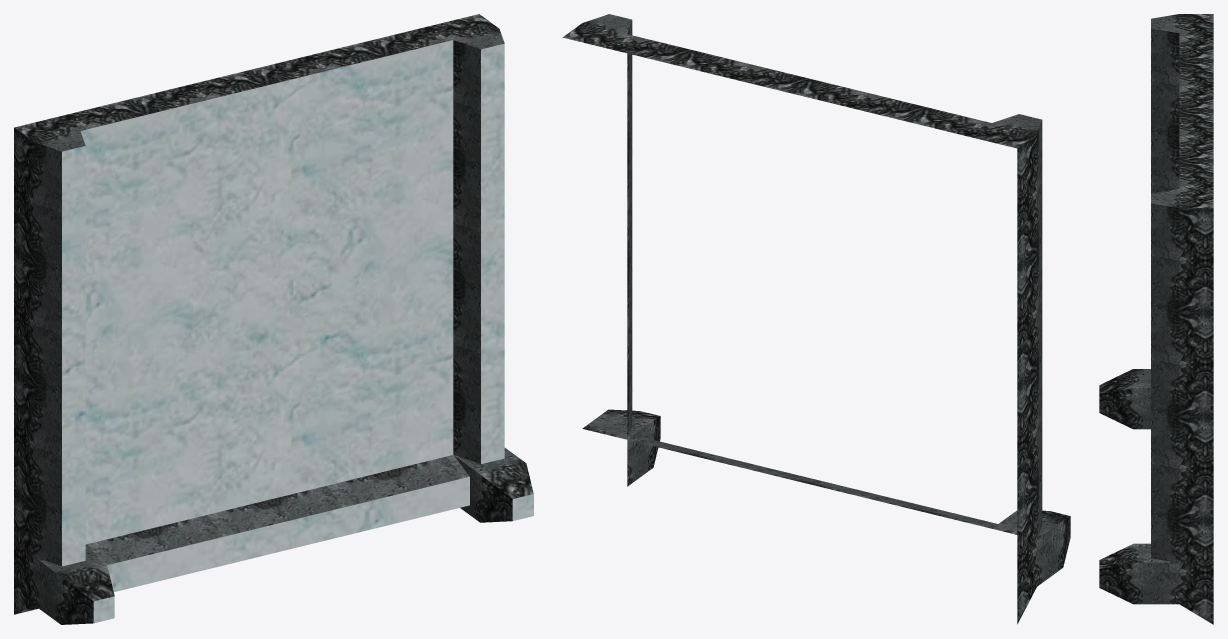
3 views of the same model, side by side, from view 1: azimuth 30°, elevation 25°; view 2: azimuth 150°, elevation 25°; view 3: azimuth 270°, elevation 25° (orthographic). The views are drawn at different scales.
Visible parts, largest first — view 1: model_Object100; view 2: model_Object100; view 3: model_Object100.
Part boxes in pixels (bbox=[...]): model_Object100: bbox=[14, 14, 533, 624]; model_Object100: bbox=[563, 14, 1070, 624]; model_Object100: bbox=[1099, 14, 1213, 624].
Size of the model in its own units: 4 by 4 by 0.997.
Materials: 2 (2 with a texture image).
